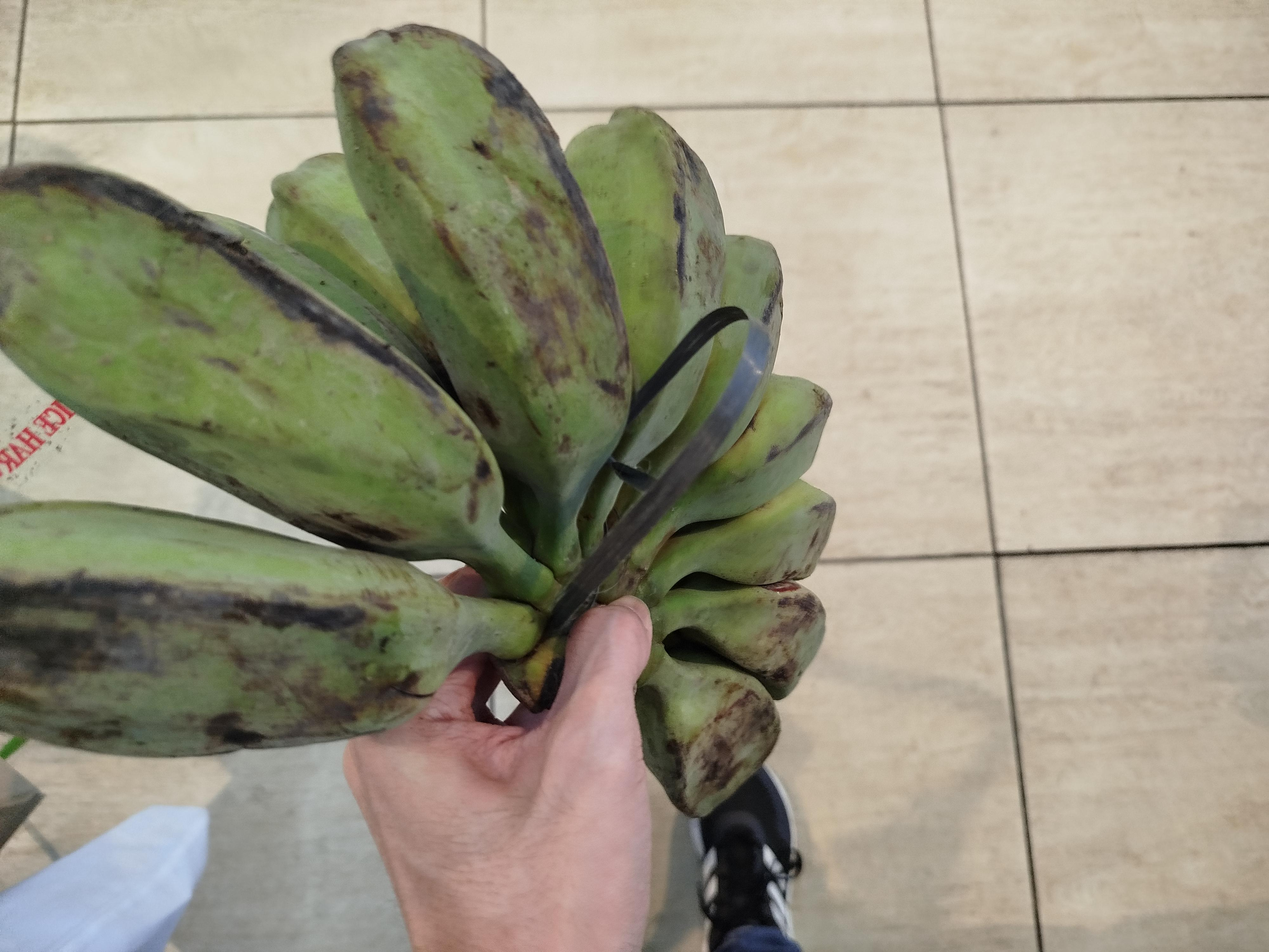underripe: (0, 24, 835, 816)
